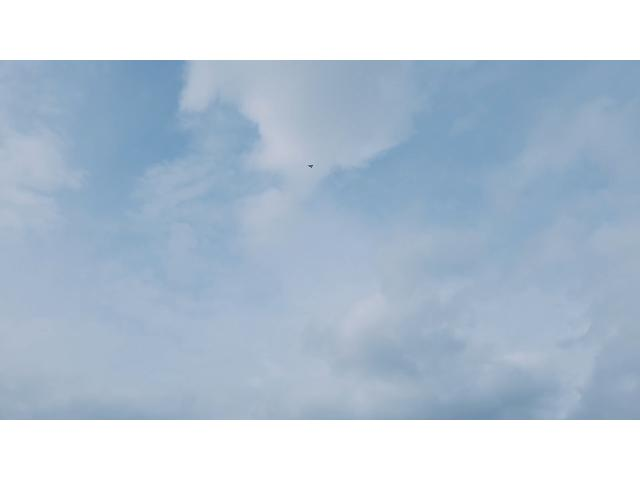Anti-Drone: (306, 162, 314, 170)
